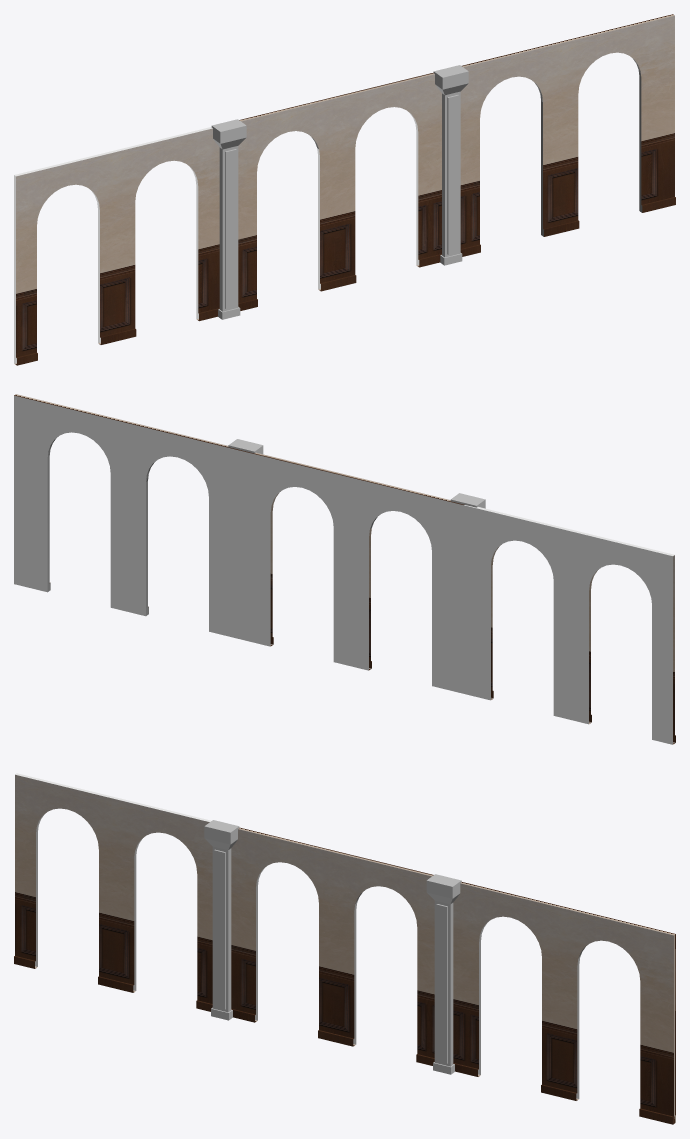
Rendered from Wall 4.FBX.
3 views of the same model, one above another, from view 1: azimuth 30°, elevation 25°; view 2: azimuth 150°, elevation 25°; view 3: azimuth 330°, elevation 25° (orthographic).
Parts seen in each view (by area): view 1: wall 4; view 2: wall 4; view 3: wall 4.
Part boxes in pixels (left/top/right/bottom): wall 4: left=14, top=14, right=675, bottom=365; wall 4: left=14, top=394, right=675, bottom=744; wall 4: left=14, top=773, right=675, bottom=1124.
Bounding box in the file's own units: 17036 × 4707 × 424.
